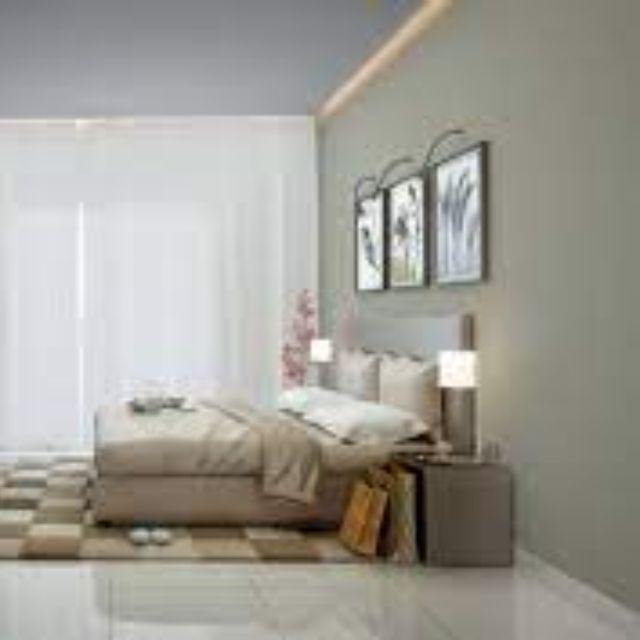bed: (83, 394, 360, 541)
lamp: (431, 352, 486, 467), (304, 328, 339, 394)
pillow: (288, 382, 406, 449), (374, 351, 445, 431), (330, 347, 383, 405)
window: (0, 120, 316, 391)
